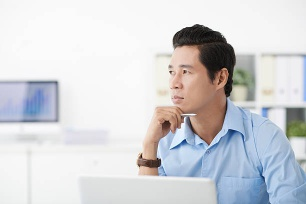male: (162, 30, 230, 116)
